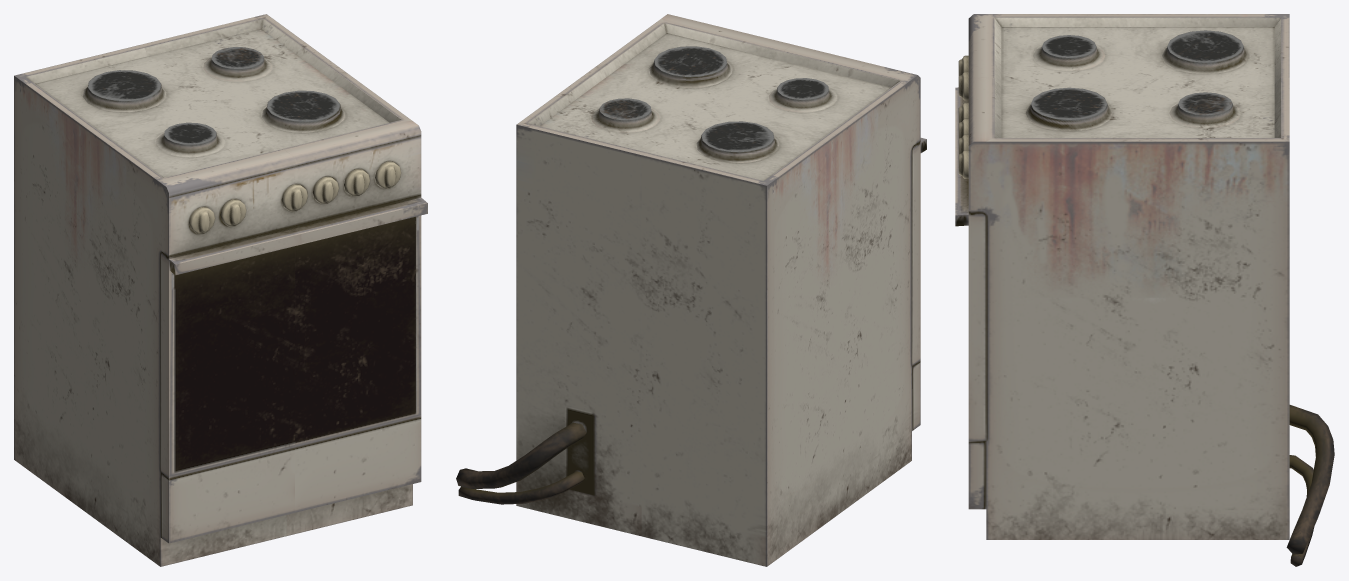
The model's file is stove.glb.
3 views of the same model, side by side, from view 1: azimuth 30°, elevation 25°; view 2: azimuth 150°, elevation 25°; view 3: azimuth 270°, elevation 25° (orthographic). The views are drawn at different scales.
Visible parts, largest first — view 1: stove_low; view 2: stove_low; view 3: stove_low.
Part boxes in pixels (x1=…): stove_low: x1=14, y1=14, x2=427, y2=566; stove_low: x1=456, y1=14, x2=926, y2=566; stove_low: x1=955, y1=14, x2=1334, y2=566.
Size of the model in its own units: 0.7233 by 0.8781 by 0.751.
Materials: 1 (1 with a texture image).
